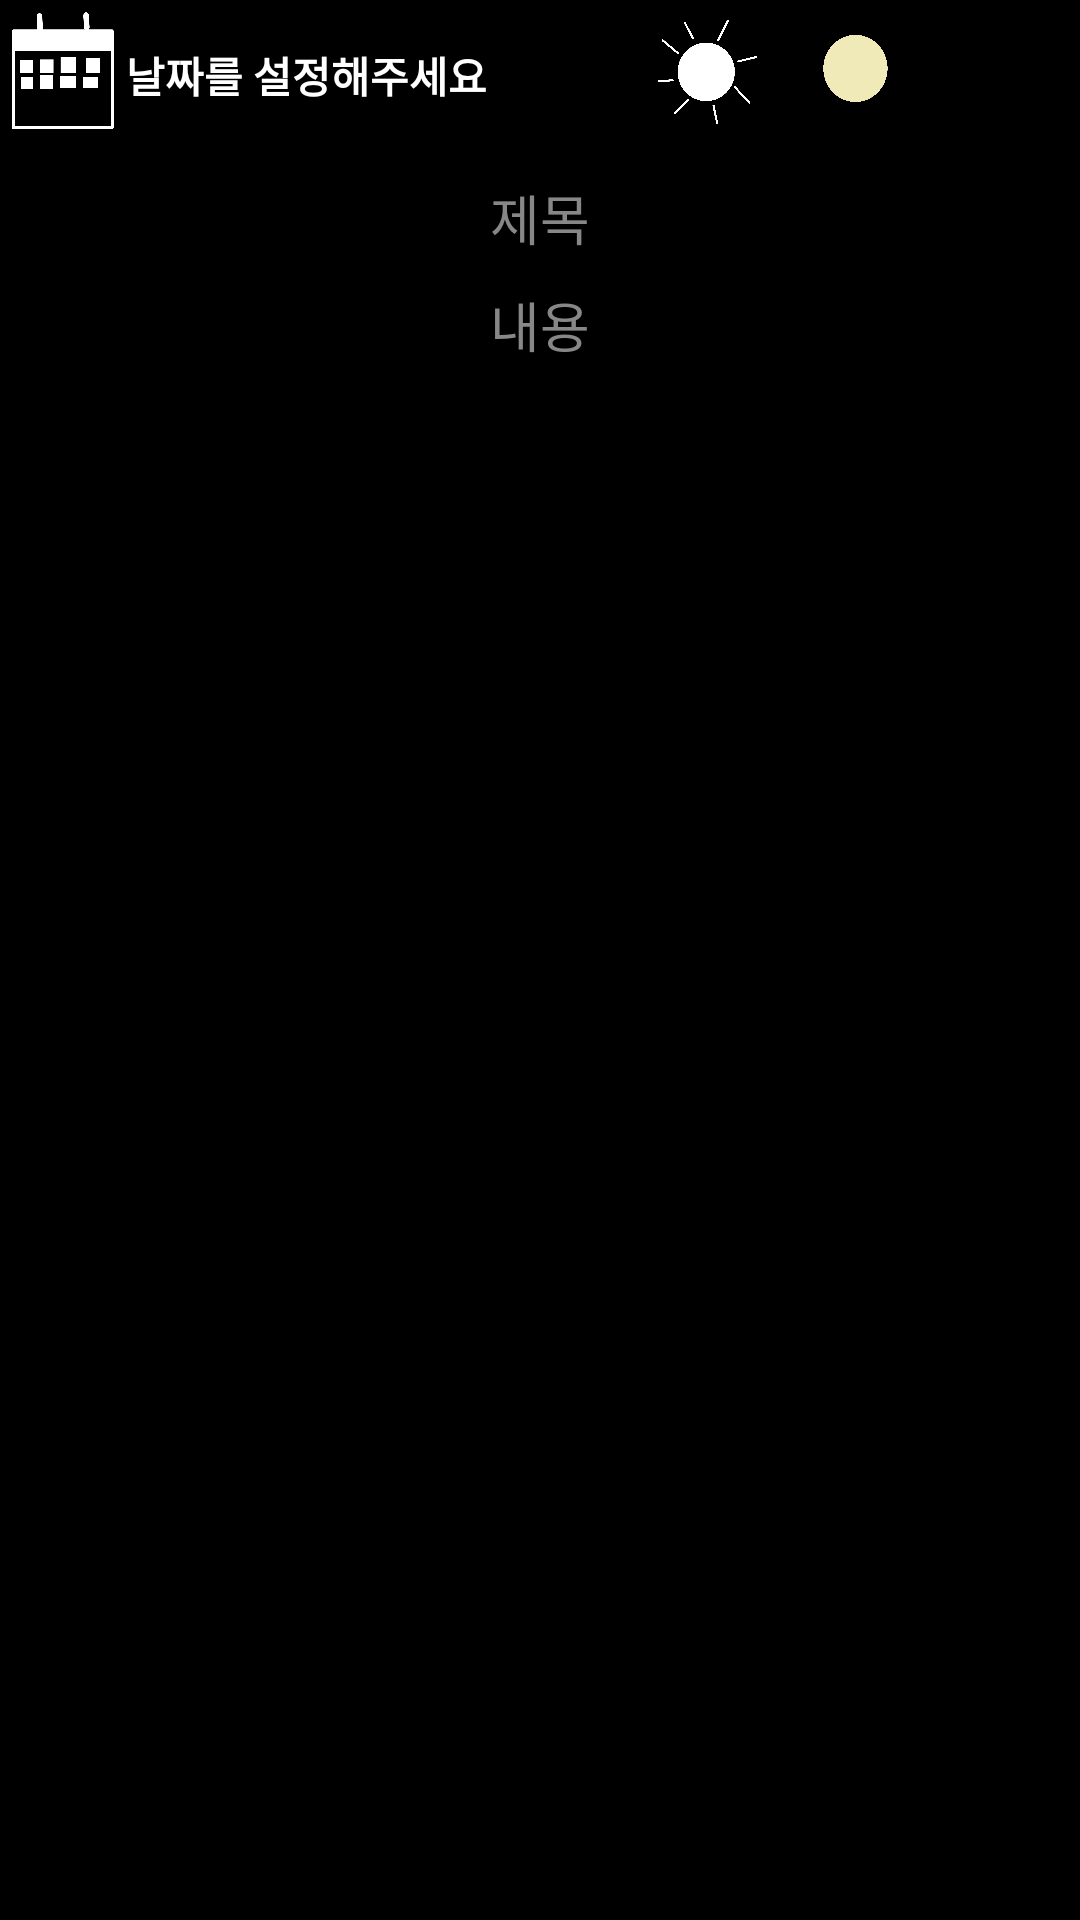

Icons on this 1080 x 1920 Android screen, each with its box as (x1, y1, x2, y2):
calendar: (12, 12, 114, 129)
sunny: (658, 20, 757, 124)
